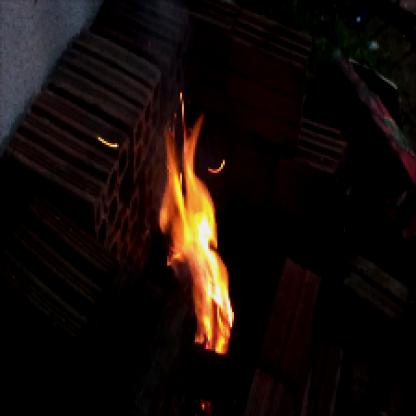Fire: (147, 89, 236, 355)
